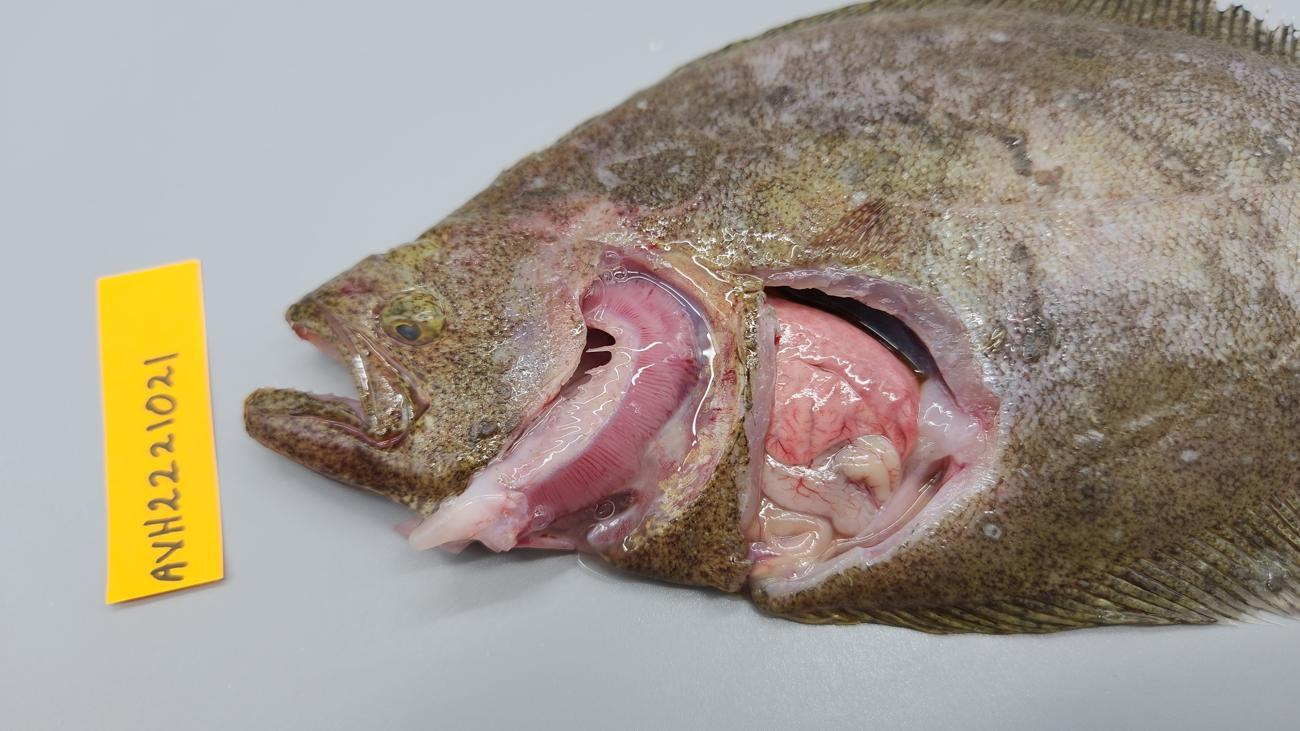VIGIP: (528, 277, 699, 522)
VILIC: (769, 418, 804, 457)
VILII: (775, 309, 904, 441)
